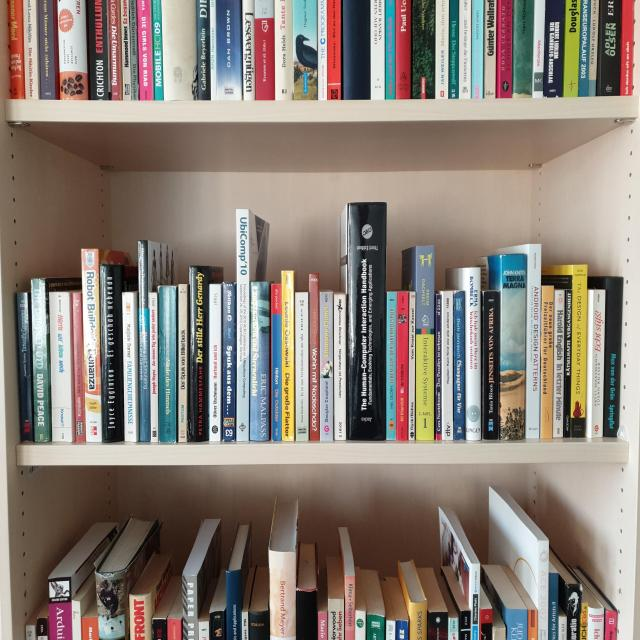book: (348, 203, 385, 442), (498, 255, 526, 440), (100, 265, 123, 442), (415, 246, 435, 440), (82, 248, 102, 441), (48, 293, 72, 442), (525, 244, 542, 438), (189, 266, 207, 442), (251, 282, 270, 442), (604, 277, 623, 437), (236, 209, 249, 442), (58, 0, 88, 100), (464, 268, 481, 439), (158, 285, 176, 443), (31, 278, 48, 442), (571, 264, 587, 437), (16, 293, 34, 441), (137, 239, 150, 441), (344, 0, 370, 99), (483, 292, 500, 440), (216, 0, 241, 98), (293, 0, 317, 99), (121, 293, 136, 442), (540, 286, 554, 437), (72, 291, 86, 441), (88, 0, 109, 100), (413, 0, 434, 99), (295, 292, 309, 440), (591, 290, 605, 438), (544, 0, 565, 97), (600, 0, 621, 95), (254, 0, 274, 99), (320, 294, 333, 441), (223, 283, 235, 441), (282, 272, 293, 440), (309, 273, 320, 440), (275, 0, 293, 100), (397, 292, 409, 441), (442, 291, 454, 440), (453, 292, 465, 440), (334, 295, 346, 441), (563, 0, 581, 96), (515, 0, 532, 97), (554, 289, 565, 438), (386, 292, 397, 440), (137, 0, 153, 100), (39, 0, 55, 100), (8, 0, 24, 99), (210, 284, 220, 442), (272, 284, 282, 440), (396, 0, 411, 100), (23, 0, 38, 99), (148, 293, 158, 441), (327, 0, 341, 100), (370, 0, 384, 99), (620, 0, 634, 95), (197, 1, 210, 100), (179, 284, 187, 442), (532, 1, 545, 96), (484, 0, 496, 99), (564, 290, 572, 438), (436, 0, 448, 98), (500, 0, 512, 98), (579, 0, 591, 96), (152, 0, 163, 101), (110, 0, 121, 100), (459, 0, 470, 98), (243, 2, 254, 99), (408, 293, 415, 440), (121, 0, 131, 100), (472, 1, 482, 98), (589, 1, 599, 95), (385, 0, 394, 99), (317, 0, 326, 99), (449, 0, 458, 98), (435, 294, 441, 440), (130, 0, 138, 100), (210, 0, 217, 101)
